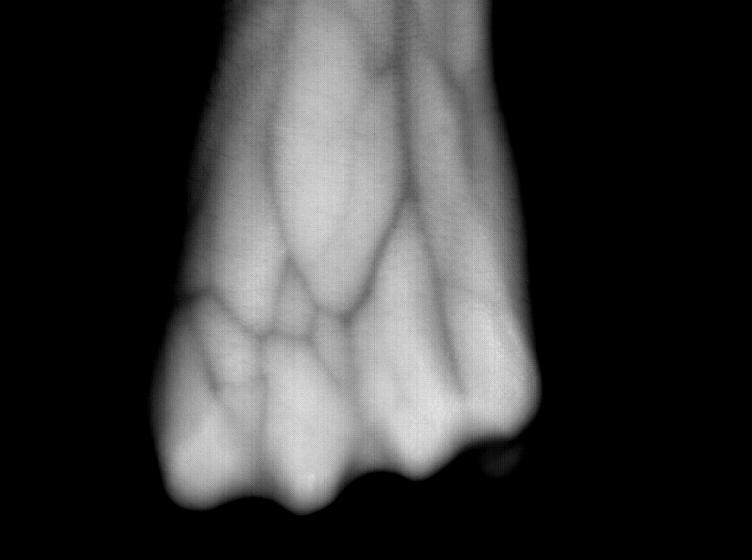Vein: (340, 70, 443, 324)
